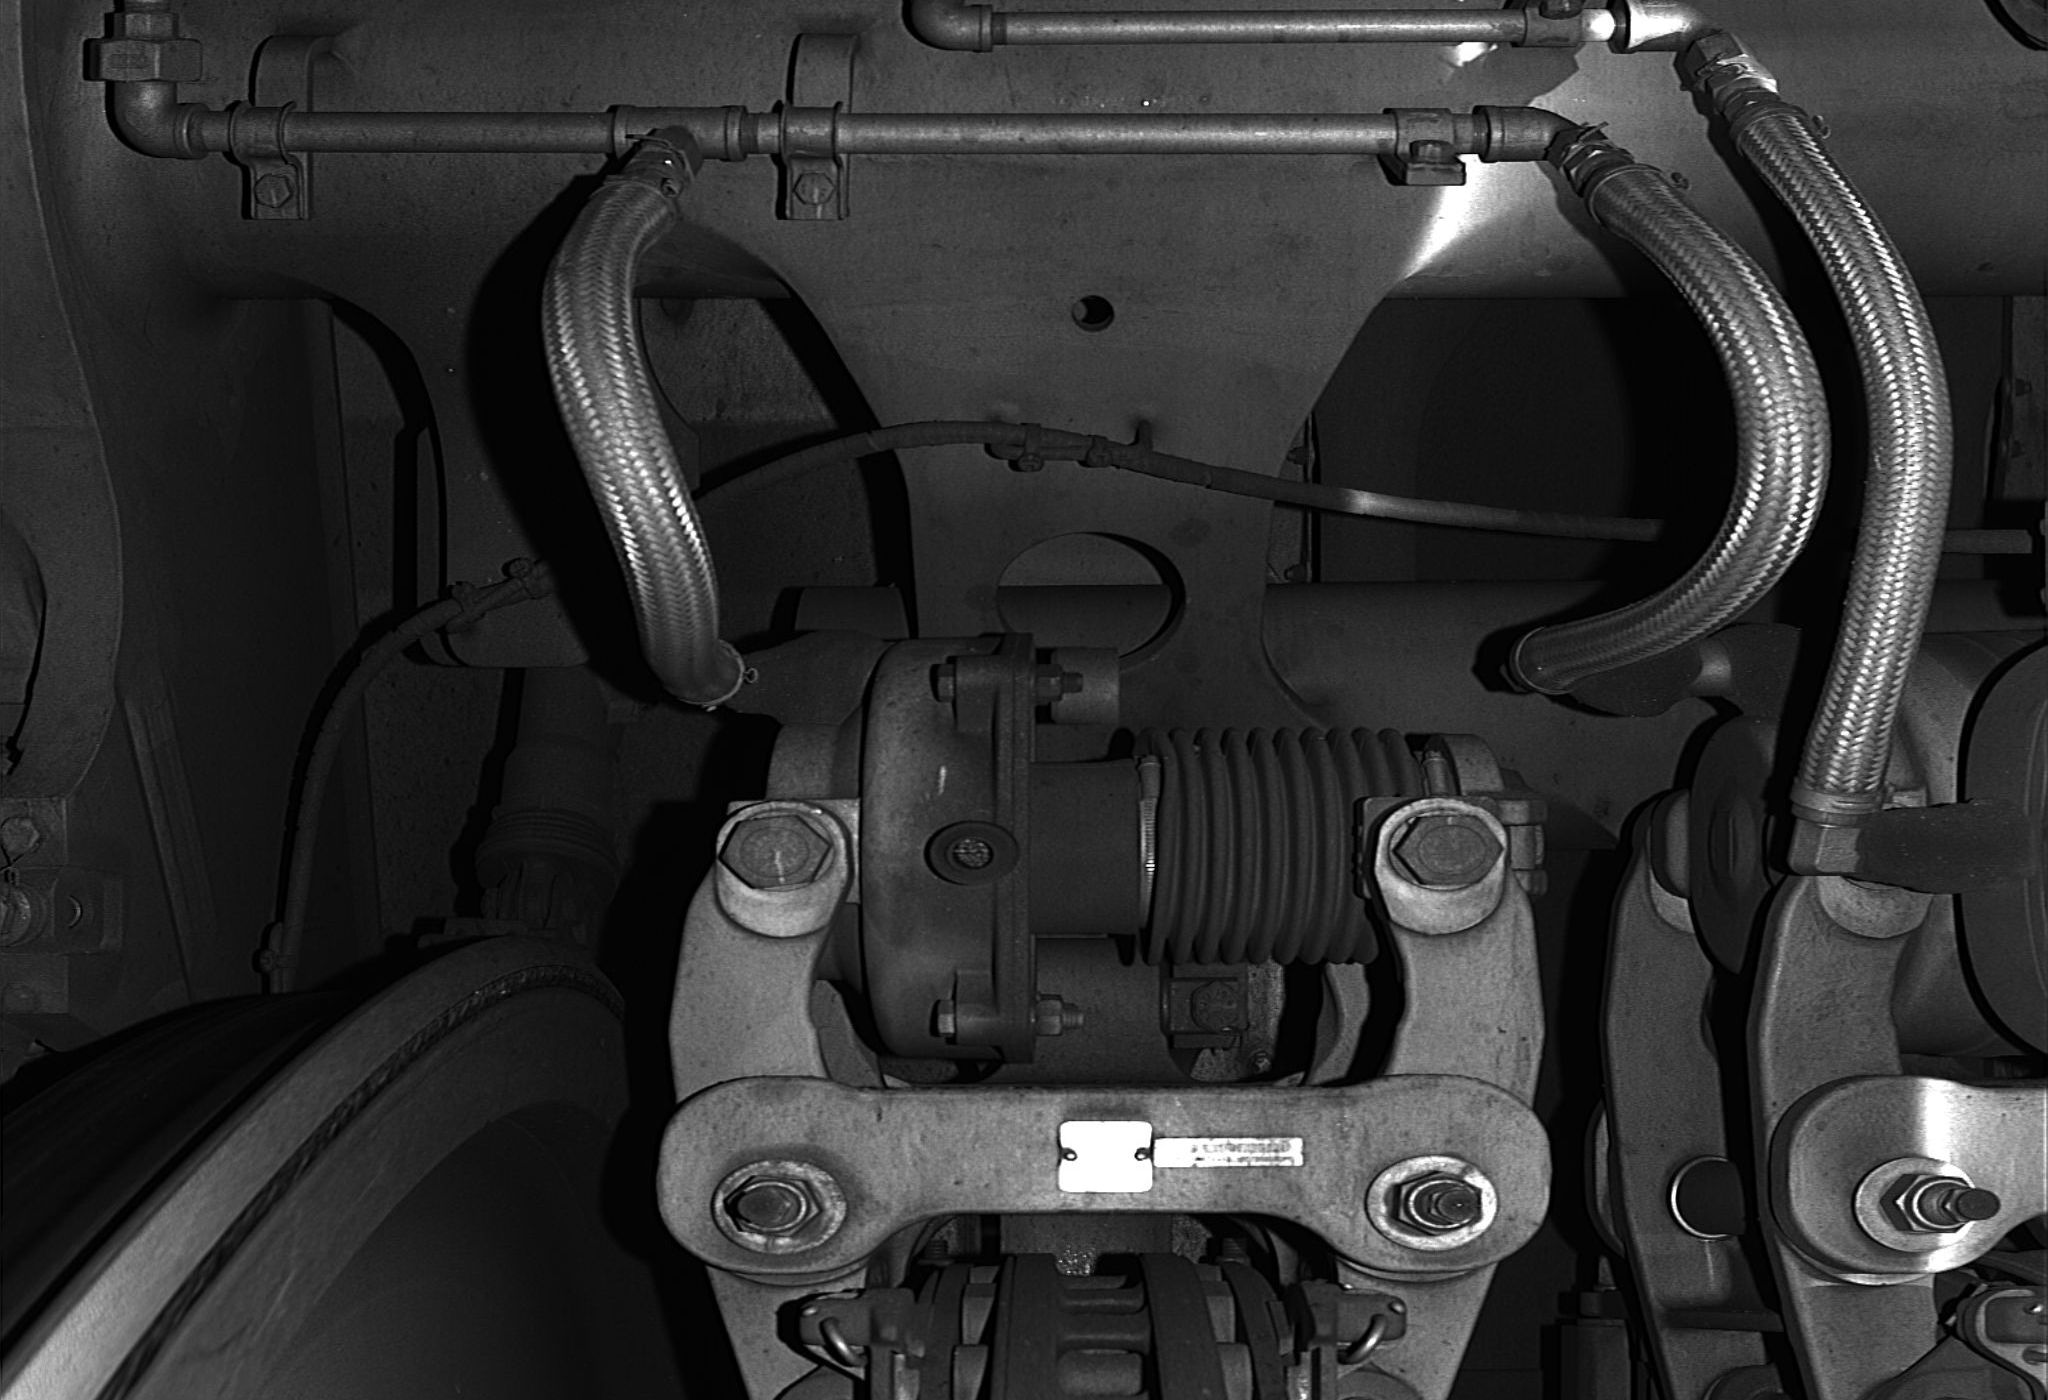area: (862, 639, 1036, 1069)
